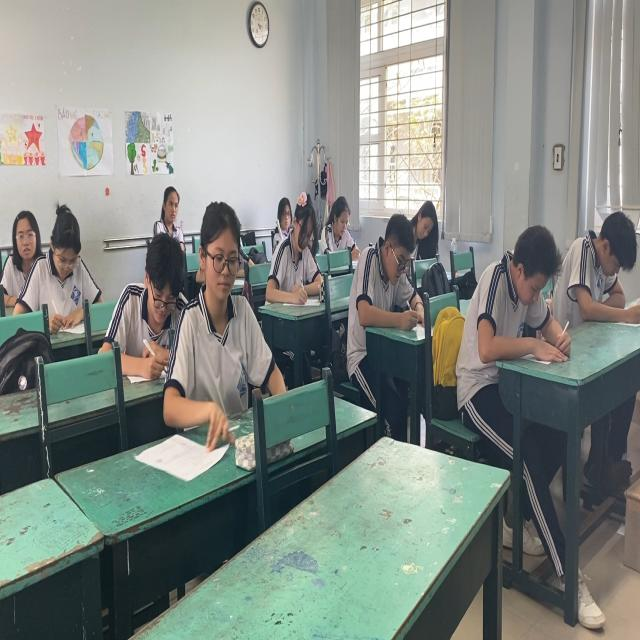not_cheating: (183, 204, 264, 389), (473, 210, 566, 362), (122, 224, 200, 368), (576, 206, 640, 338), (37, 193, 97, 324), (362, 213, 426, 324), (271, 193, 325, 307), (4, 192, 45, 278), (152, 169, 187, 237), (321, 189, 356, 248), (407, 190, 438, 248)
